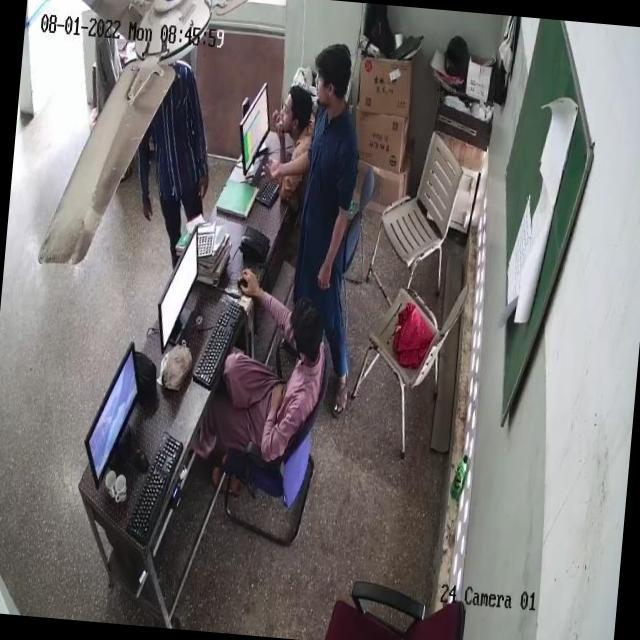person: (290, 41, 374, 404), (222, 290, 333, 451), (146, 55, 200, 274), (272, 85, 334, 237)
